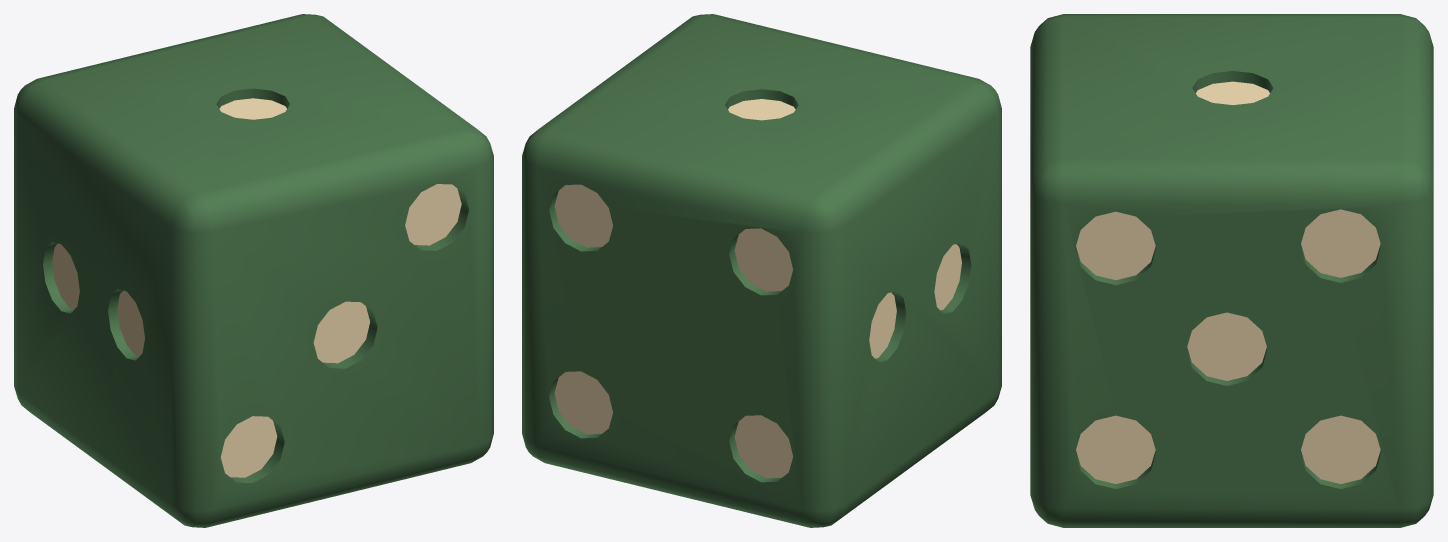
File: Dice_1.fbx
3 views of the same model, side by side, from view 1: azimuth 30°, elevation 25°; view 2: azimuth 150°, elevation 25°; view 3: azimuth 270°, elevation 25° (orthographic). The views are drawn at different scales.
Visible parts, largest first — view 1: Dice_1; view 2: Dice_1; view 3: Dice_1.
Boxes of the visible parts, x1=… form: Dice_1: x1=14, y1=14, x2=493, y2=527; Dice_1: x1=522, y1=14, x2=1001, y2=527; Dice_1: x1=1030, y1=14, x2=1433, y2=527.
Size of the model in its own units: 0.0861 by 0.0861 by 0.0861.
